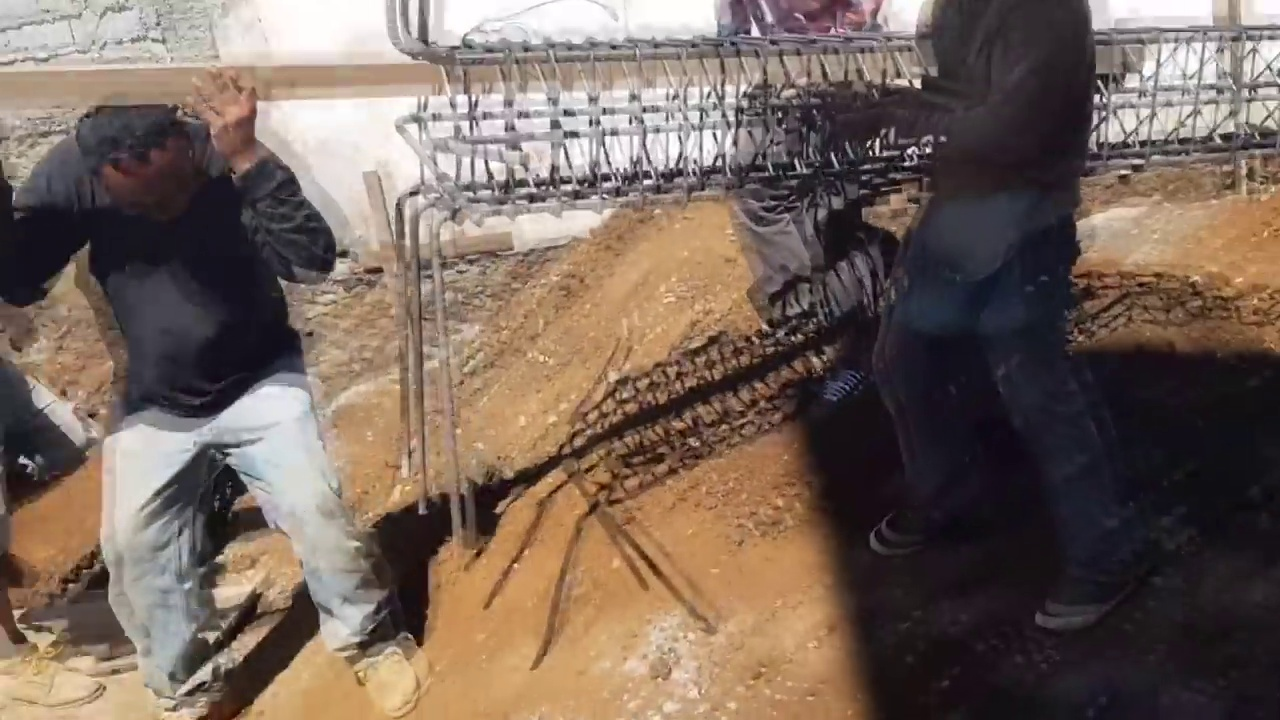helmet-off: (67, 96, 202, 225)
person: (2, 69, 418, 716), (867, 0, 1138, 597), (712, 0, 902, 417)
